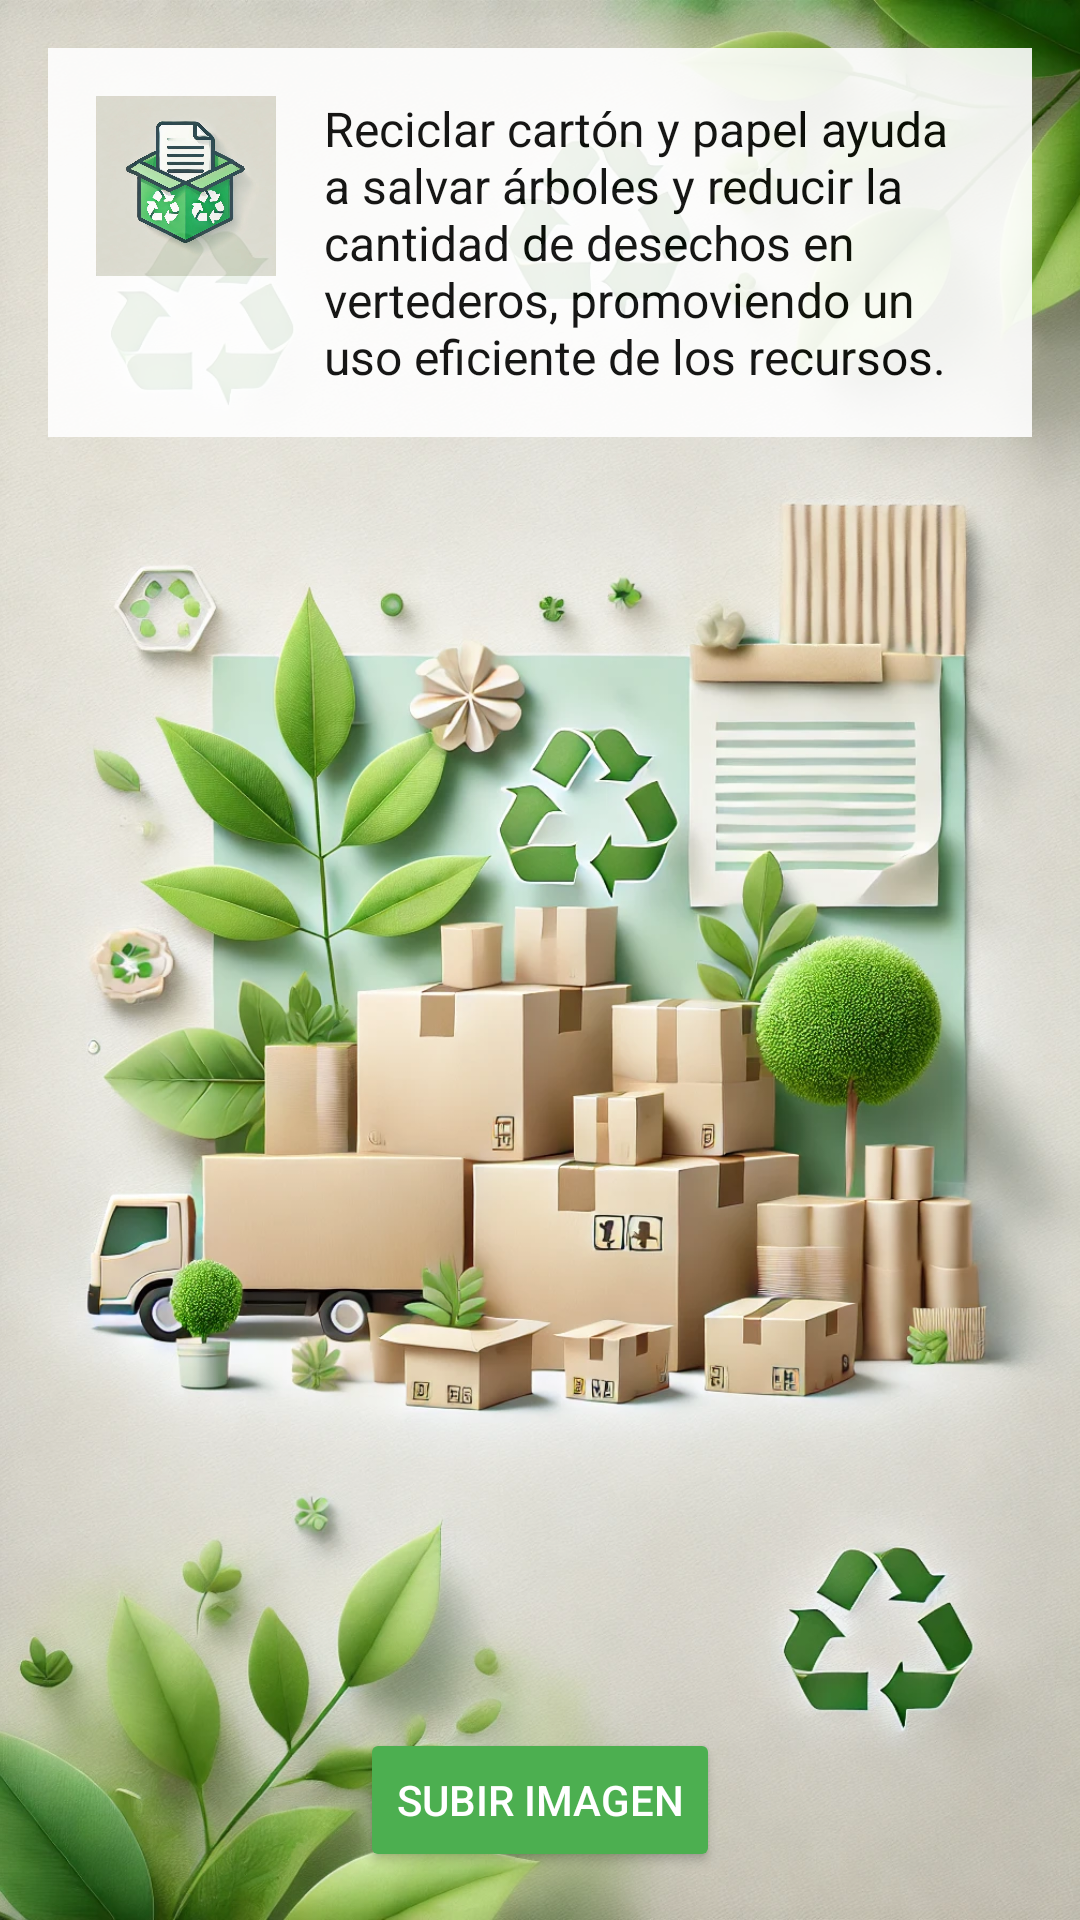

Named icons in this screenshot (1080*1920) and their bounding boxes, (x1, y1, x2, y2):
Icono de cartón y papel: (96, 96, 276, 276)
